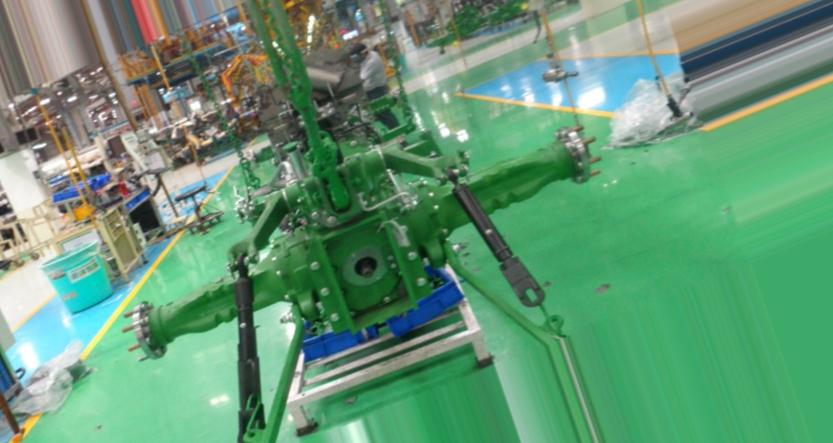engine: (119, 0, 603, 384)
